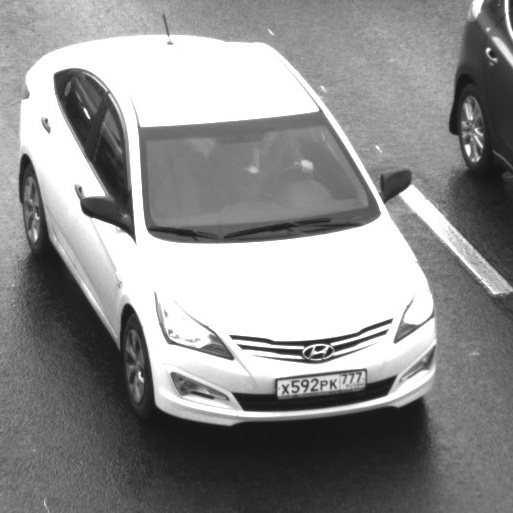plate: (264, 359, 376, 405)
